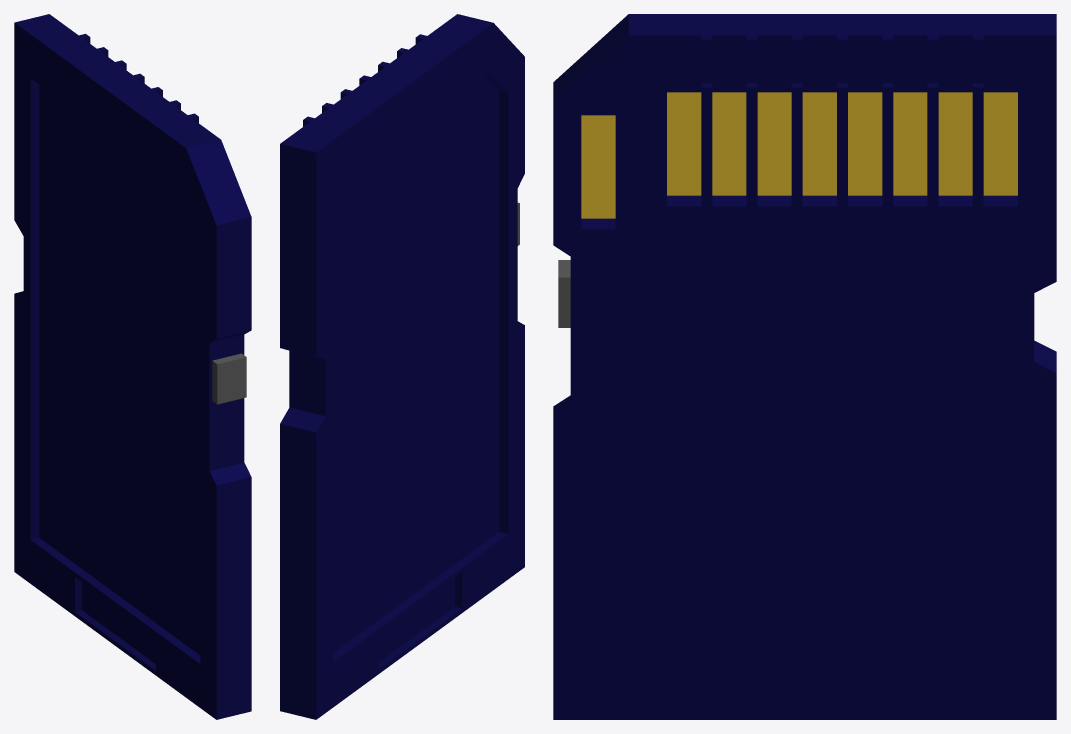
Rendered from SD Card.fbx.
3 renders of one model, left to right at view 1: azimuth 30°, elevation 25°; view 2: azimuth 150°, elevation 25°; view 3: azimuth 270°, elevation 25°, orthographic. The views are drawn at different scales.
Parts seen in each view (by area): view 1: SD Card; view 2: SD Card; view 3: SD Card.
Part boxes in pixels (x1,y1,x2,y2): SD Card: (14, 14, 251, 719); SD Card: (280, 14, 524, 719); SD Card: (553, 14, 1056, 719).
Size of the model in its own units: 0.12 by 1.5 by 1.
